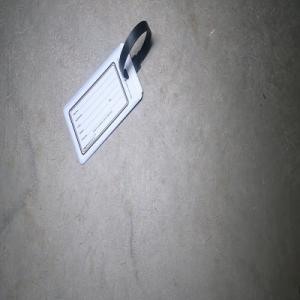LuggageTag: (61, 19, 152, 166)
